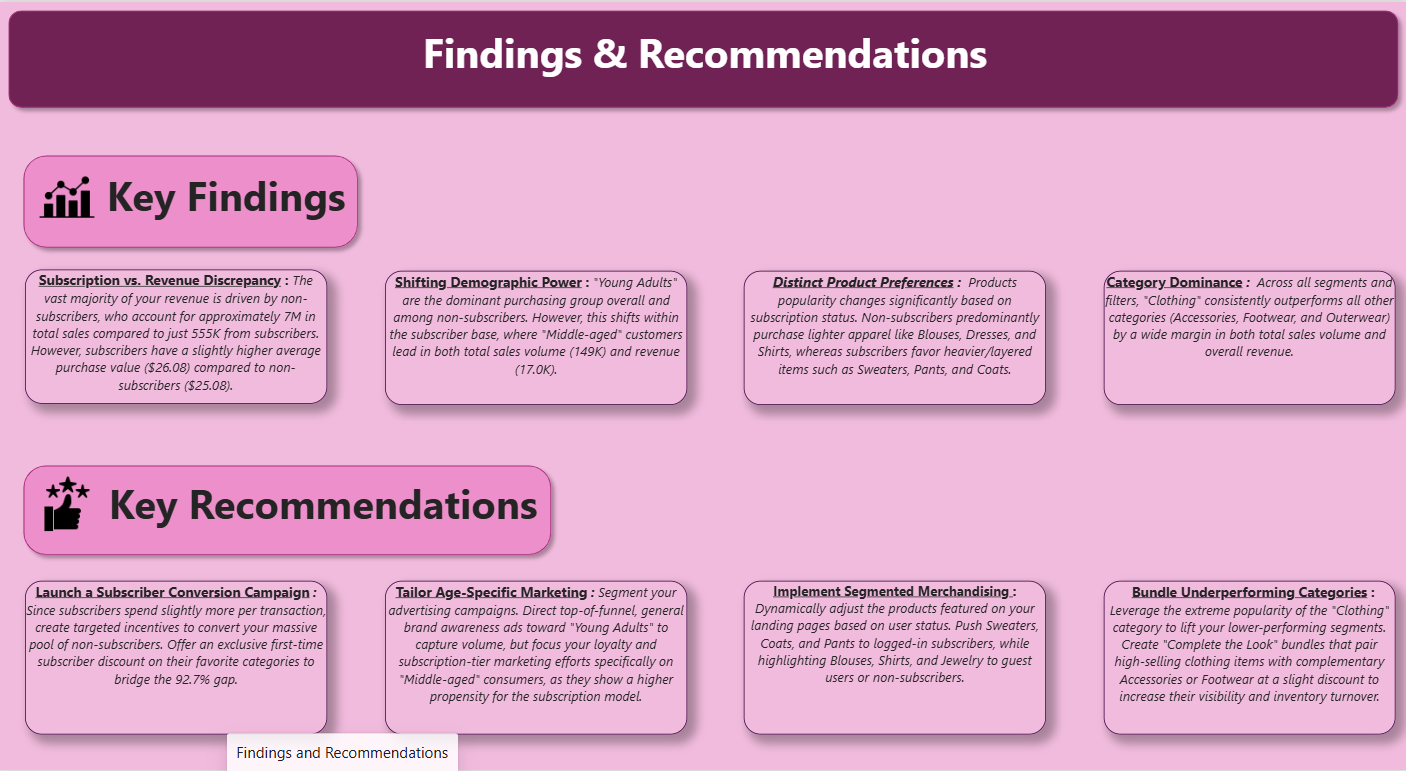

This screenshot's page, from the dashboard's own definition file:
{"tool":"powerbi","page":{"name":"Findings and Recommendations","canvas":[1500,820],"ordinal":1},"visuals":[{"type":"shape","box":[0,0,1500.5,121.7],"z":0},{"type":"shape","box":[15.7,154.3,374.7,116.5],"z":1000},{"type":"shape","box":[15.7,485.5,580.9,113.4],"z":2000},{"type":"textbox","box":[15.7,23.6,1472,86.6],"z":3000},{"type":"textbox","box":[102.3,176.3,277.1,78.7],"z":4000},{"type":"image","box":[26.8,176.3,89.7,63],"z":5000},{"type":"textbox","box":[116.5,506,466,81.9],"z":6000},{"type":"image","box":[26.8,506,89.7,59.8],"z":7000},{"type":"textbox","box":[27.3,285.3,322.2,143.3],"z":8000},{"type":"textbox","box":[26.8,617.1,322.7,163.7],"z":9000},{"type":"textbox","box":[410.4,286.5,322.7,143.3],"z":10000},{"type":"textbox","box":[794,286.5,322.7,143.3],"z":11000},{"type":"textbox","box":[1176.7,286.7,311.2,143.3],"z":12000},{"type":"textbox","box":[410.9,617.1,322.7,163.7],"z":13000},{"type":"textbox","box":[794,617.1,322.7,163.7],"z":14000},{"type":"textbox","box":[1176.7,617,311.2,163.8],"z":15000}]}

Visuals, with their boxes in screenshot pixels (x1, y1, x2, y2), scaled from the page's 1500x820 canvas onto the 1406x771 screenshot:
shape: select_region(0, 0, 1405, 114)
shape: select_region(15, 145, 366, 255)
shape: select_region(15, 456, 559, 563)
textbox: select_region(15, 22, 1394, 104)
textbox: select_region(96, 166, 356, 240)
image: select_region(25, 166, 109, 225)
textbox: select_region(109, 476, 546, 553)
image: select_region(25, 476, 109, 532)
textbox: select_region(26, 268, 328, 403)
textbox: select_region(25, 580, 328, 734)
textbox: select_region(385, 269, 687, 404)
textbox: select_region(744, 269, 1047, 404)
textbox: select_region(1103, 270, 1395, 404)
textbox: select_region(385, 580, 688, 734)
textbox: select_region(744, 580, 1047, 734)
textbox: select_region(1103, 580, 1395, 734)
